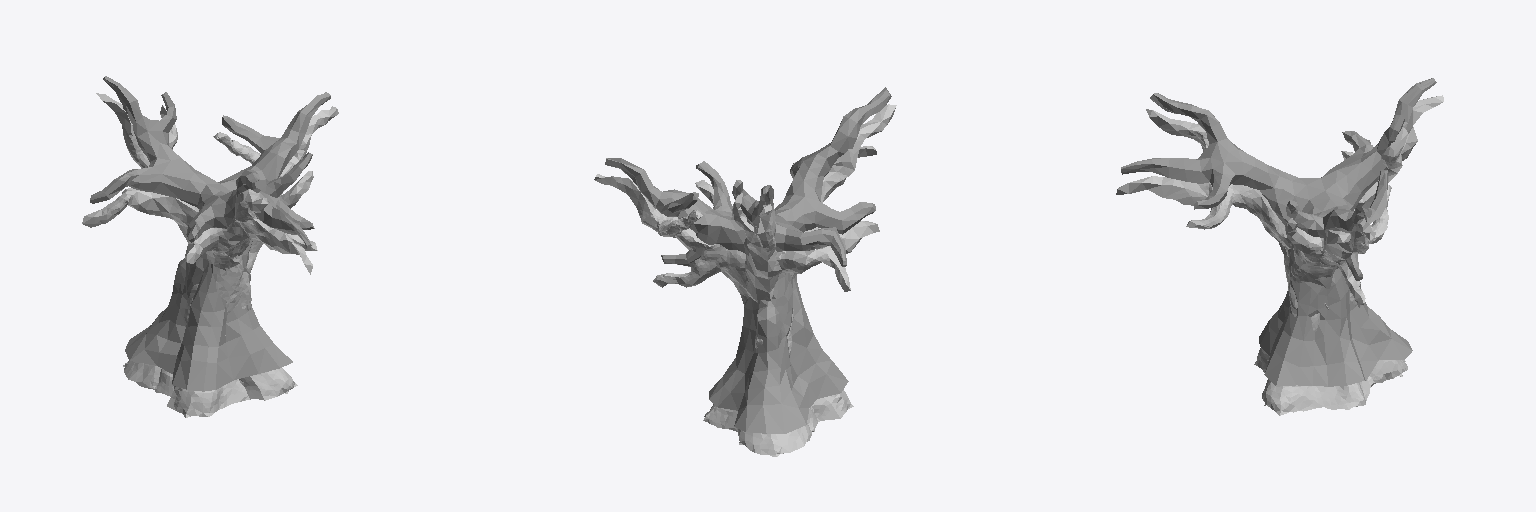
The model's file is Tree.obj.
3 renders of one model, left to right at view 1: azimuth 30°, elevation 25°; view 2: azimuth 150°, elevation 25°; view 3: azimuth 270°, elevation 25°, orthographic.
Parts seen in each view (by area): view 1: deadTree_Plane, Cube.001; view 2: deadTree_Plane, Cube.001; view 3: deadTree_Plane, Cube.001.
Part boxes in pixels (x1,y1,x2,y2): deadTree_Plane: (90, 76, 330, 391); Cube.001: (82, 93, 338, 417); deadTree_Plane: (605, 87, 891, 433); Cube.001: (594, 104, 896, 456); deadTree_Plane: (1121, 78, 1436, 386); Cube.001: (1116, 95, 1443, 415).
Bounding box in the file's own units: 13.19 × 13.93 × 14.56.